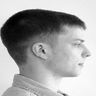ear: (29, 39, 52, 63)
